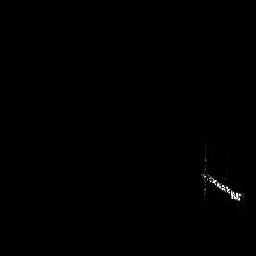ship: (201, 143, 245, 207)
